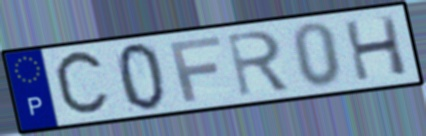0: (290, 20, 348, 91), (115, 41, 169, 113)
C: (51, 47, 114, 122)
F: (167, 34, 224, 104)
H: (341, 13, 411, 84)
R: (224, 28, 294, 99)
